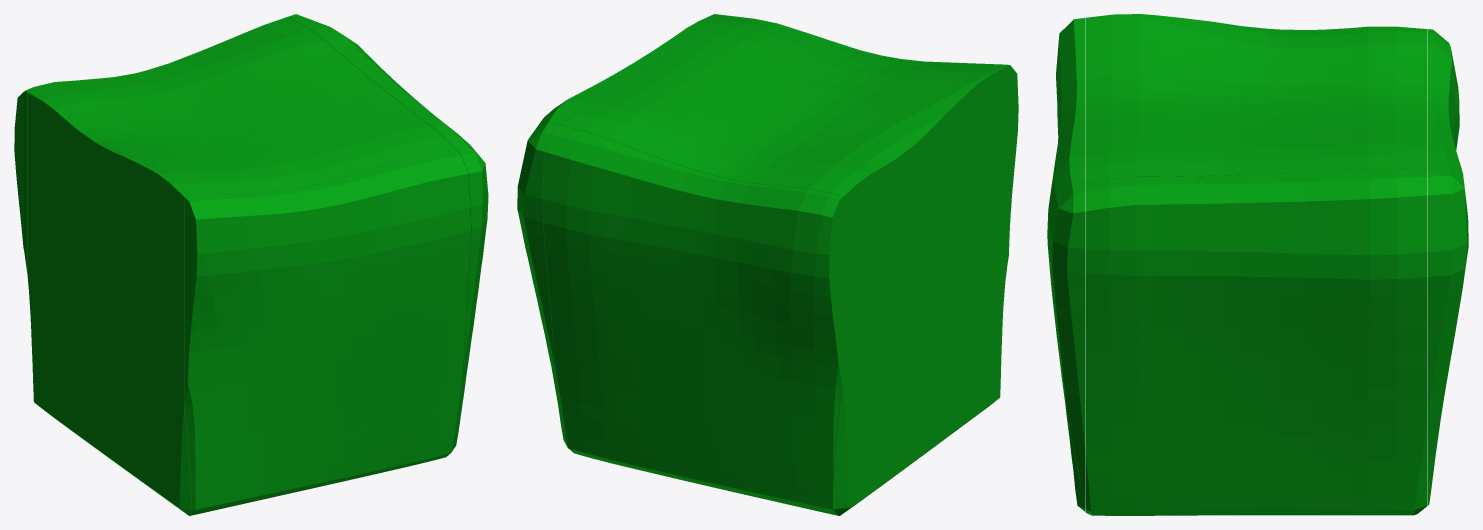
The model's file is 4by10beveledsubdivided.029.fbx.
3 views of the same model, side by side, from view 1: azimuth 30°, elevation 25°; view 2: azimuth 150°, elevation 25°; view 3: azimuth 270°, elevation 25° (orthographic). The views are drawn at different scales.
Visible parts, largest first — view 1: 4by10beveledsubdivided.029; view 2: 4by10beveledsubdivided.029; view 3: 4by10beveledsubdivided.029.
Boxes of the visible parts, x1=… form: 4by10beveledsubdivided.029: x1=14, y1=14, x2=488, y2=515; 4by10beveledsubdivided.029: x1=517, y1=14, x2=1018, y2=515; 4by10beveledsubdivided.029: x1=1047, y1=14, x2=1468, y2=515.
Size of the model in its own units: 230 by 232 by 246.
